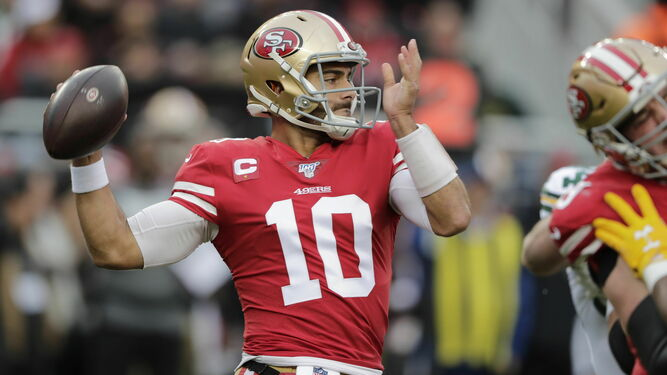futbol americano: (44, 65, 128, 158)
